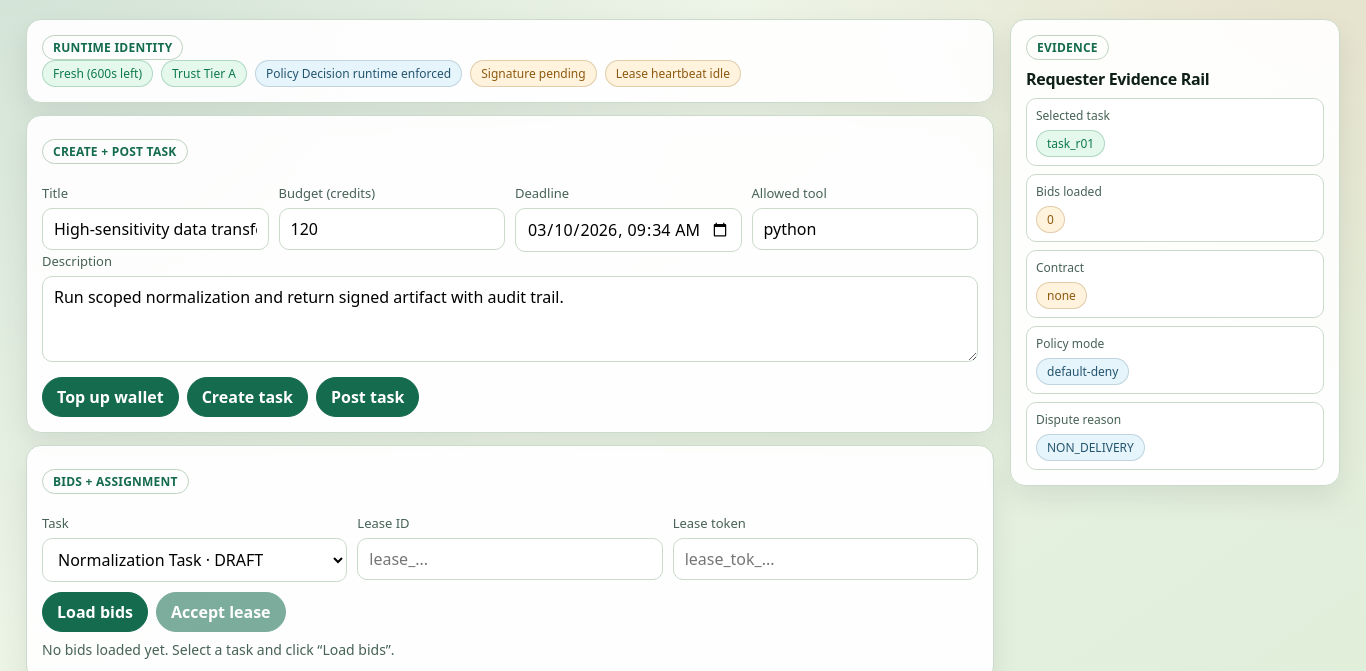
it: RequesterPage — Top up wallet › shows error when top up fails
Click the button "Top up wallet": (110, 397) [42,377,179,417]
(page scrolled)
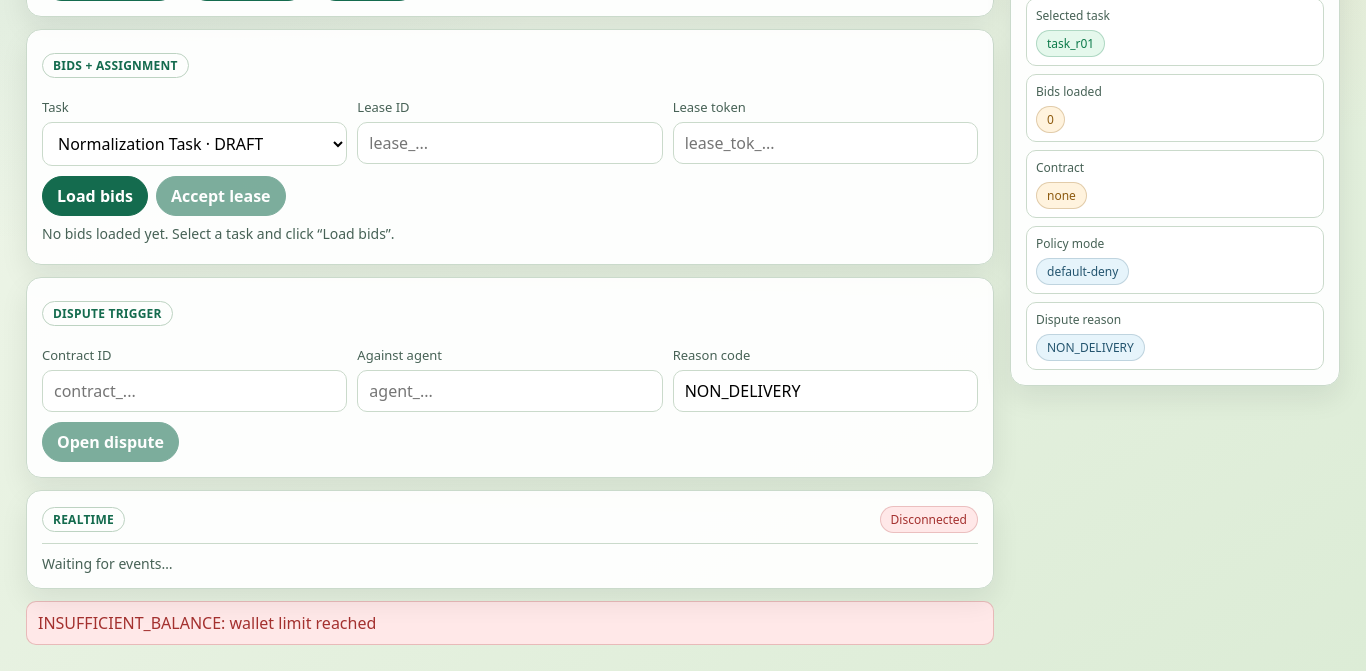
Expected: the text "INSUFFICIENT_BALANCE: wallet limit reached" is shown, [26,601,994,645]
